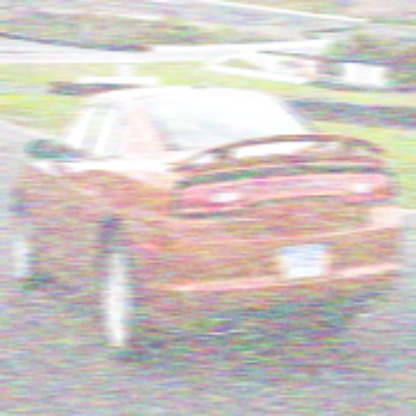Vehicle: (11, 82, 404, 362)
